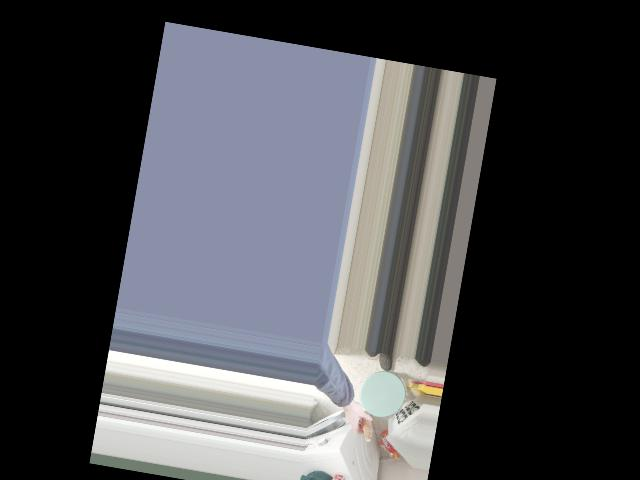sweet_potato: (350, 402, 376, 441)
